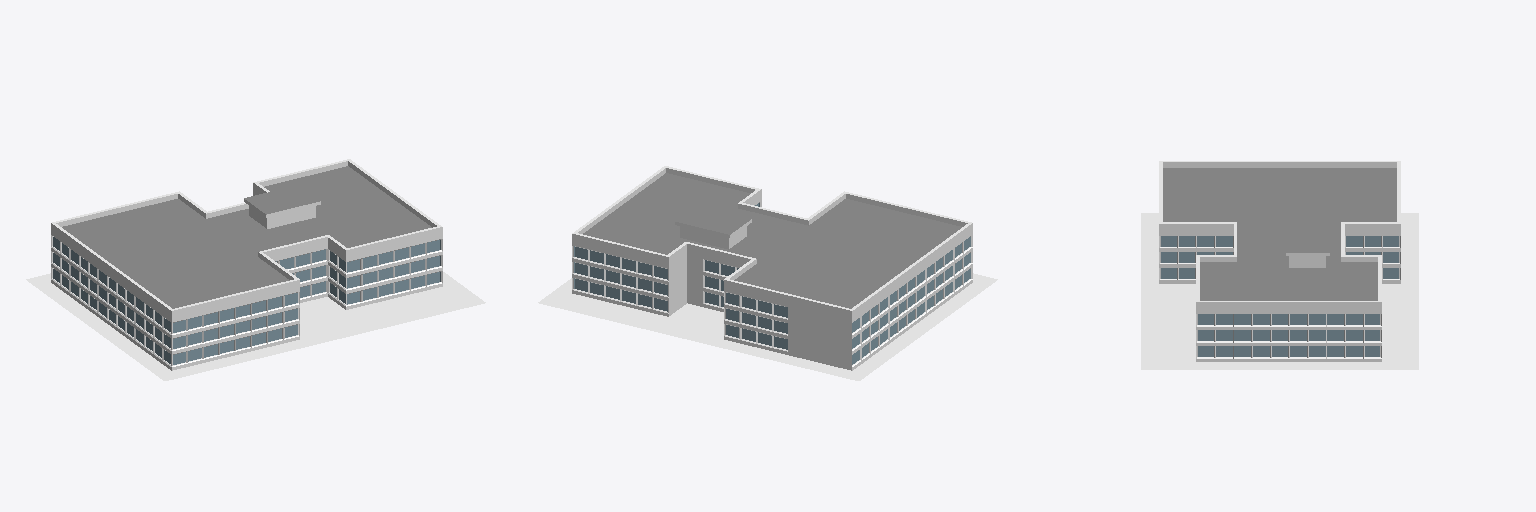
File: 14268_Commercial_Center.obj
The picture shows the model from 3 angles: view 1: azimuth 30°, elevation 25°; view 2: azimuth 150°, elevation 25°; view 3: azimuth 270°, elevation 25°; orthographic projection.
Parts seen in each view (by area): view 1: Plano01_1, Plano01_2, Plano01_3, Plano01; view 2: Plano01_1, Plano01_2, Plano01_3, Plano01; view 3: Plano01_1, Plano01_2, Plano01, Plano01_3.
Part boxes in pixels (left/top/right/bottom): Plano01_1: left=62, top=166, right=431, bottom=308; Plano01_2: left=51, top=159, right=442, bottom=370; Plano01_3: left=53, top=237, right=440, bottom=364; Plano01: left=26, top=272, right=485, bottom=380; Plano01_1: left=583, top=173, right=961, bottom=308; Plano01_2: left=572, top=166, right=972, bottom=370; Plano01_3: left=574, top=203, right=970, bottom=364; Plano01: left=538, top=273, right=997, bottom=380; Plano01_1: left=1163, top=168, right=1396, bottom=300; Plano01_2: left=1159, top=161, right=1400, bottom=361; Plano01: left=1141, top=213, right=1418, bottom=369; Plano01_3: left=1161, top=236, right=1398, bottom=356.
Size of the model in its own units: 200 by 43 by 150.